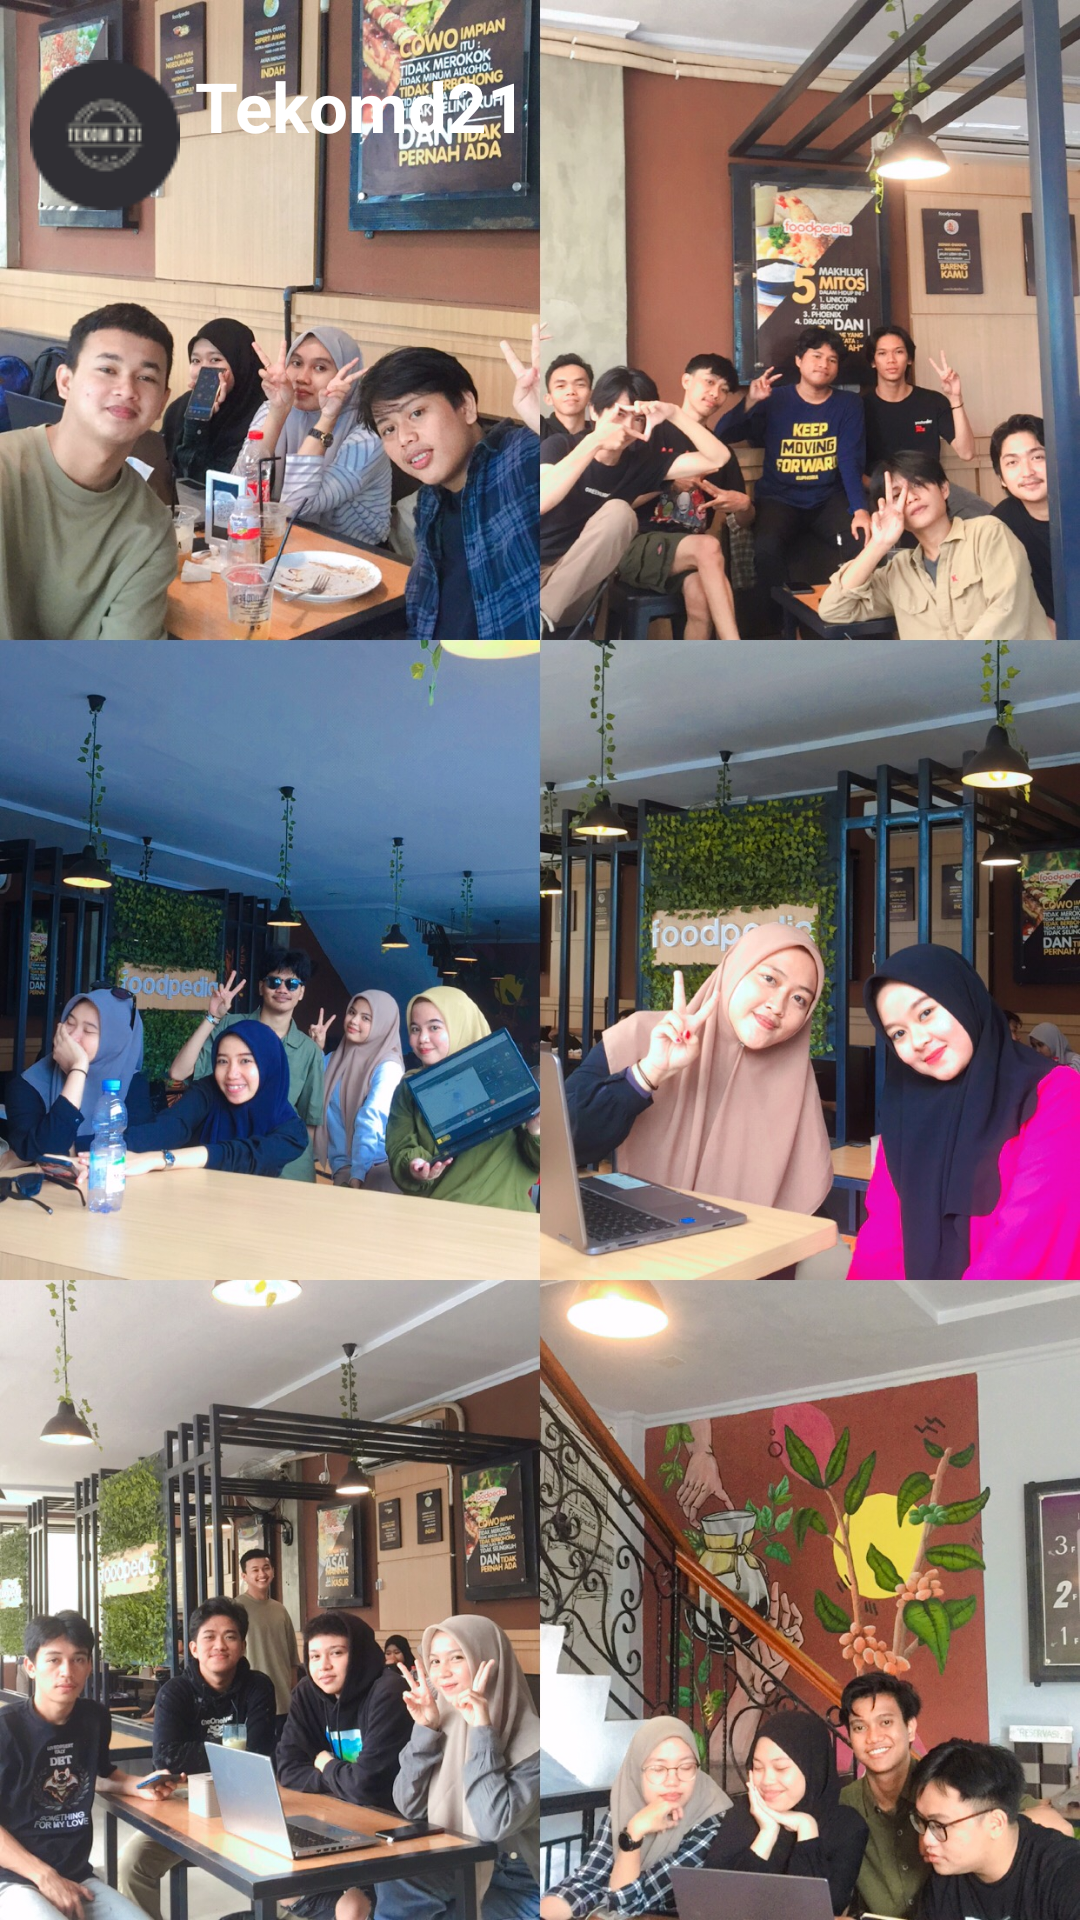

Point at icon controls on the screen. Image size 1080px×1920px, points as point (x, y).
chatprofil: point (105, 135)
